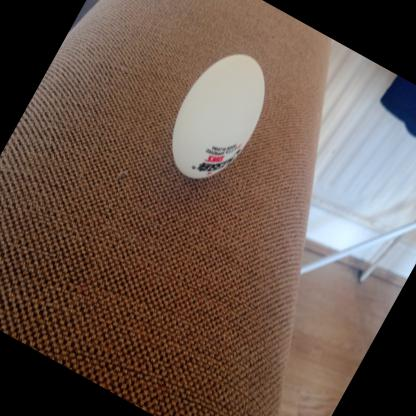Tabel Tennis: (148, 34, 288, 198)
